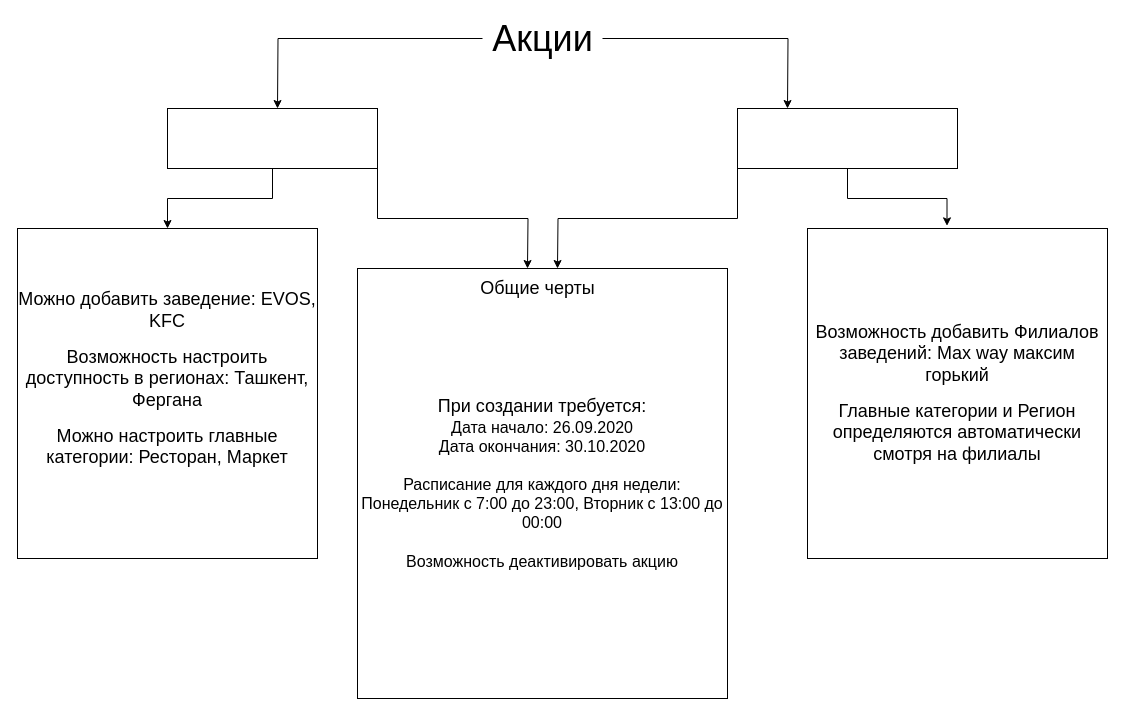
Some shapes in this 1125 by 716 pixel diagram are drawn without their labels. The box of each missing label's shape, as (x1, y1, x2, y2) in pixels:
Глобальные акции: (166, 108, 378, 168)
Локальные акции: (736, 108, 958, 168)
